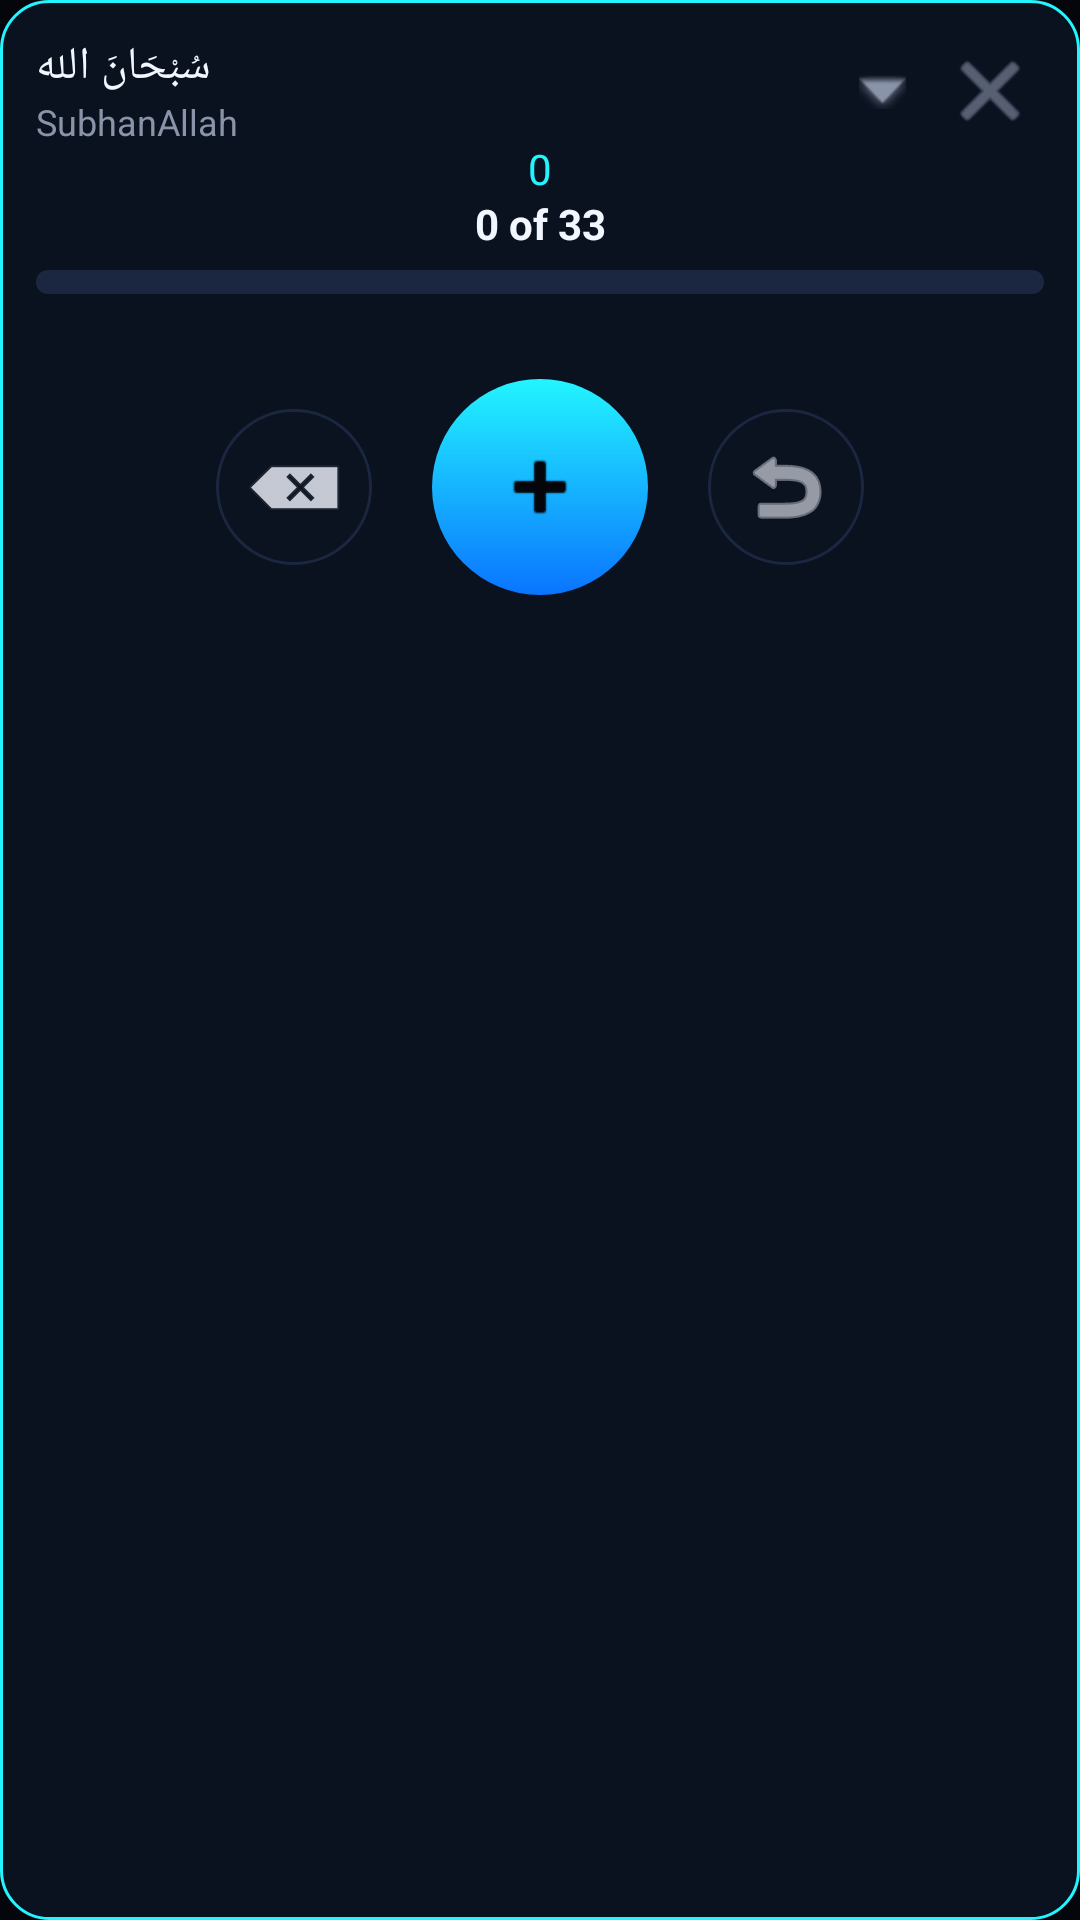

Point at icon controls on the screen. Image size 1080×1920, points as (x=x, y=y).
Close: (x=990, y=91)
Minimize: (x=882, y=91)
Plus one: (x=540, y=487)
Reset: (x=786, y=487)
